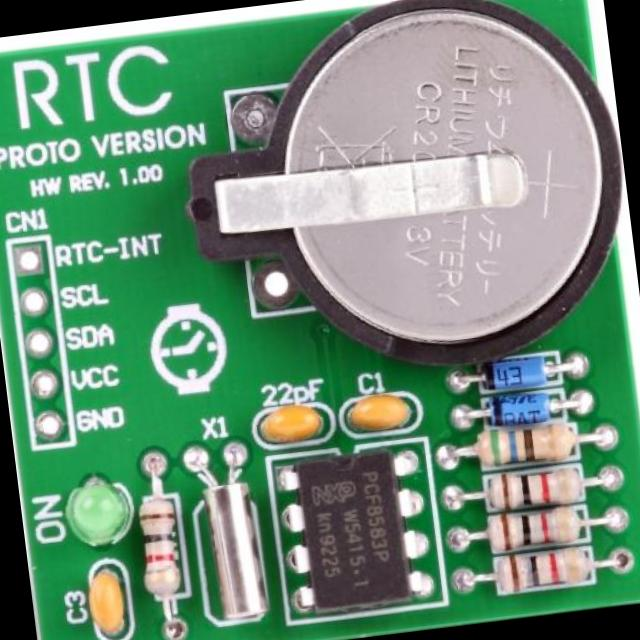IC: (277, 450, 432, 616)
LED: (64, 476, 125, 550)
capacitor: (251, 398, 325, 454), (78, 567, 130, 640), (340, 388, 412, 436)
diode: (481, 382, 592, 428), (469, 356, 574, 394)
resistor: (129, 462, 199, 604), (452, 412, 593, 477), (476, 545, 602, 602), (468, 505, 600, 559), (461, 464, 594, 514)
